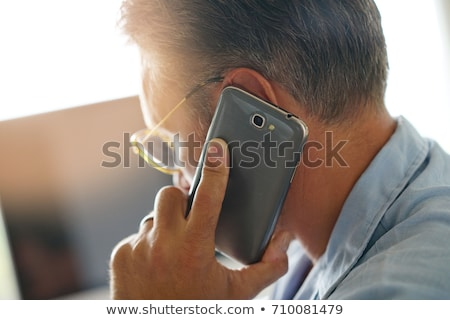phone: (198, 85, 310, 272)
talk: (94, 8, 313, 301)
